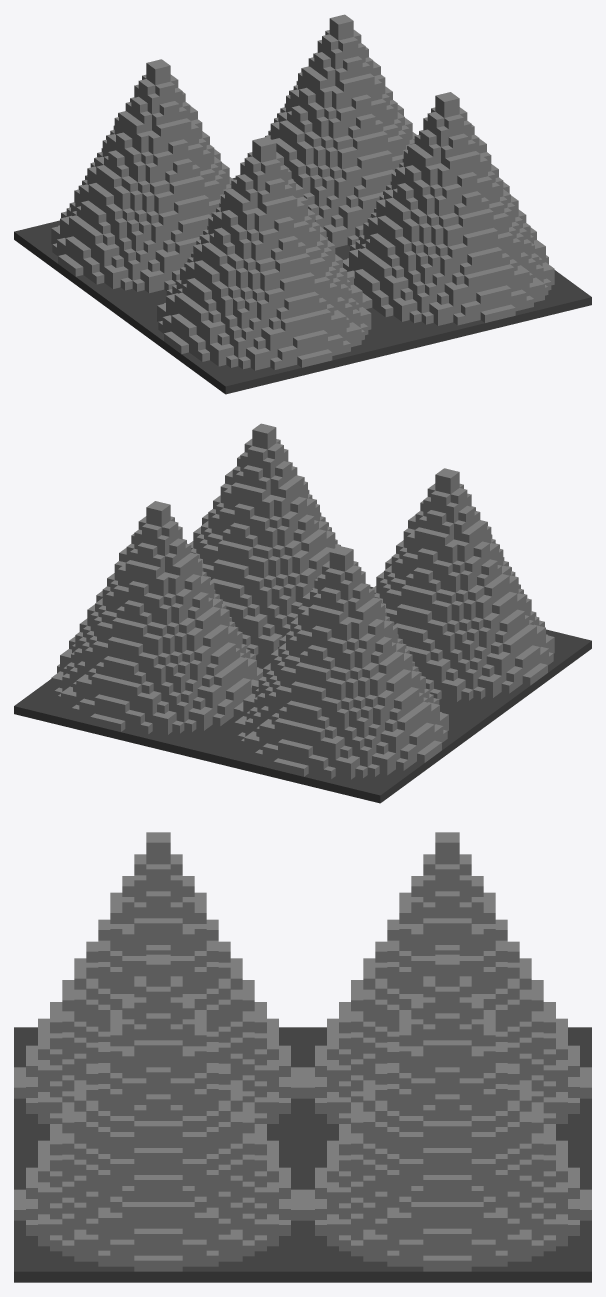
File: Spikes.obj
3 renders of one model, top to bottom at view 1: azimuth 30°, elevation 25°; view 2: azimuth 150°, elevation 25°; view 3: azimuth 270°, elevation 25°, orthographic. The views are drawn at different scales.
Bounding box in the file's own units: 4.8 × 2.4 × 4.8.
1 material, 1 textured.
